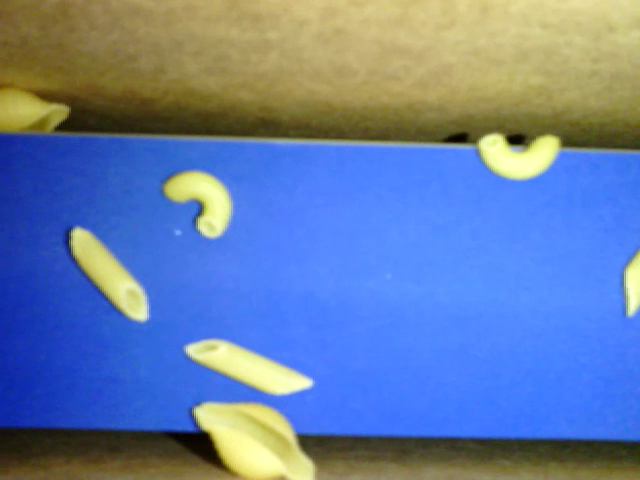elbow: (157, 168, 231, 237), (474, 132, 563, 181)
penne: (187, 334, 312, 396), (68, 228, 146, 318), (627, 242, 639, 313)
shell: (185, 397, 316, 479), (1, 88, 71, 133)
